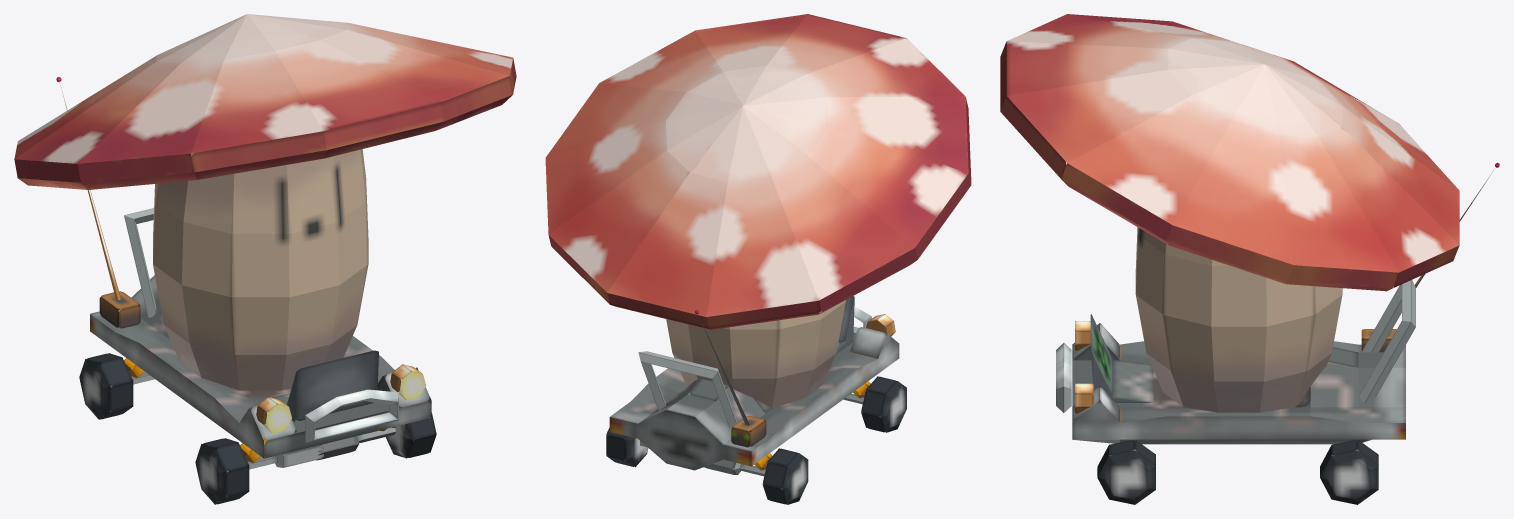
The model's file is Mooshroom.fbx.
The picture shows the model from 3 angles, left to right: view 1: azimuth 30°, elevation 25°; view 2: azimuth 150°, elevation 25°; view 3: azimuth 270°, elevation 25°; orthographic projection. The views are drawn at different scales.
Visible parts, largest first — view 1: cylinder, cuboid, cuboid_2, cylinder_1, cylinder_6, torus_1, cylinder_12, torus, cuboid_1, cylinder_2, cylinder_14, cylinder_4 (+1 smaller); view 2: cylinder, cuboid, cylinder_6, cylinder_1, torus, cylinder_9, cuboid_1, cuboid_2, cylinder_5; view 3: cylinder, cuboid, cylinder_9, cylinder_12, torus, cuboid_2, torus_1.
Part boxes in pixels (bbox=[...]): cylinder: bbox=[14, 14, 516, 390]; cuboid: bbox=[90, 275, 431, 458]; cuboid_2: bbox=[272, 350, 378, 421]; cylinder_1: bbox=[195, 438, 249, 504]; cylinder_6: bbox=[79, 353, 133, 419]; torus_1: bbox=[305, 389, 398, 443]; cylinder_12: bbox=[385, 412, 436, 458]; torus: bbox=[124, 208, 156, 317]; cuboid_1: bbox=[99, 291, 140, 328]; cylinder_2: bbox=[256, 397, 291, 433]; cylinder_14: bbox=[390, 364, 425, 400]; cylinder_4: bbox=[226, 444, 323, 472]; cylinder: bbox=[545, 14, 971, 411]; cuboid: bbox=[609, 327, 899, 470]; cylinder_6: bbox=[762, 448, 808, 504]; cylinder_1: bbox=[861, 376, 906, 432]; torus: bbox=[638, 351, 737, 427]; cylinder_9: bbox=[606, 427, 648, 467]; cuboid_1: bbox=[731, 415, 766, 447]; cuboid_2: bbox=[836, 296, 854, 354]; cylinder_5: bbox=[704, 459, 765, 476]; cylinder: bbox=[1000, 14, 1459, 412]; cuboid: bbox=[1072, 323, 1405, 444]; cylinder_9: bbox=[1320, 440, 1378, 504]; cylinder_12: bbox=[1097, 440, 1155, 504]; torus: bbox=[1359, 280, 1415, 403]; cuboid_2: bbox=[1090, 314, 1153, 402]; torus_1: bbox=[1056, 343, 1071, 412].
Size of the model in its own units: 325 by 296 by 337.
Materials: 1 (1 with a texture image).
